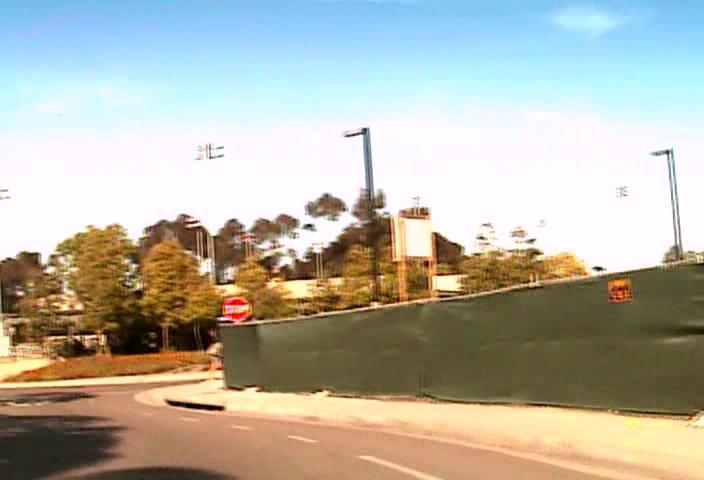stop: (223, 295, 249, 321)
